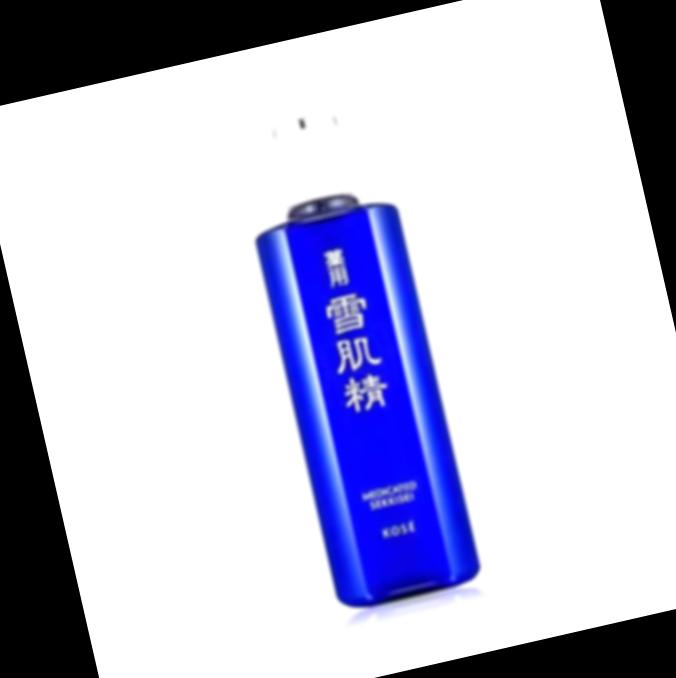cosmetic: (229, 103, 492, 615)
